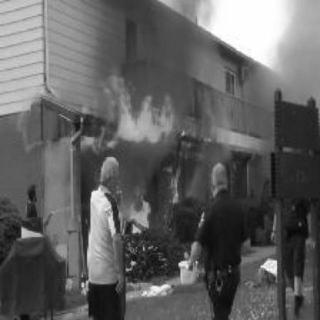Fire: (88, 74, 210, 266)
